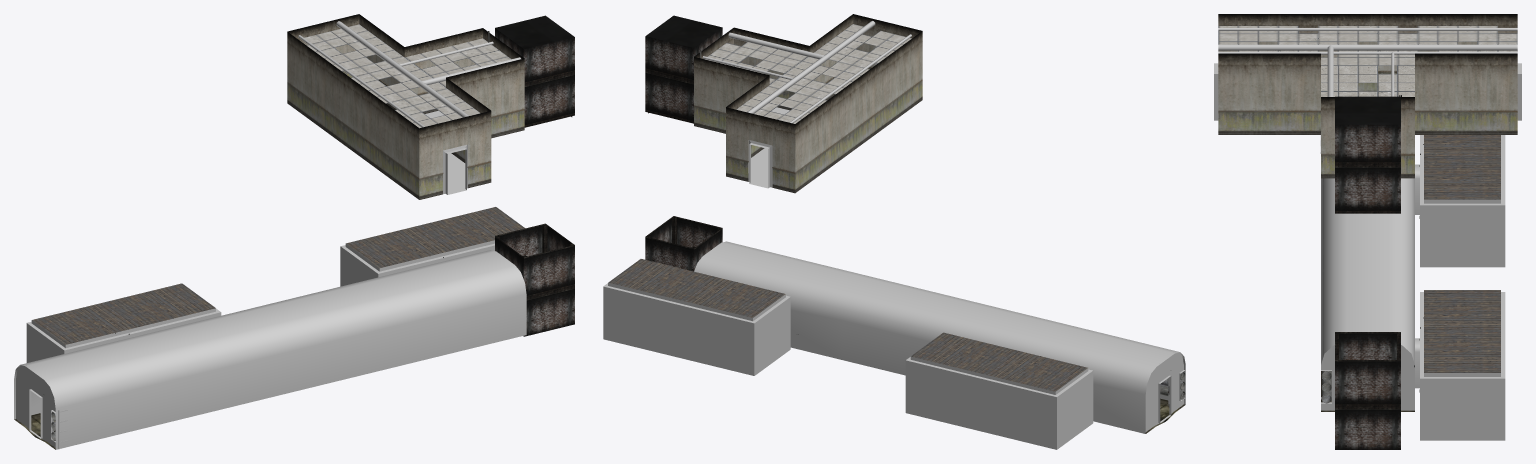
The model's file is ElevatorRoom.FBX.
The picture shows the model from 3 angles, left to right: view 1: azimuth 30°, elevation 25°; view 2: azimuth 150°, elevation 25°; view 3: azimuth 270°, elevation 25°; orthographic projection. The views are drawn at different scales.
Visible parts, largest first — view 1: Elevator_Room; view 2: Elevator_Room; view 3: Elevator_Room.
Part boxes in pixels (box(x1,y1,x2,y2)): Elevator_Room: box(14, 14, 574, 449); Elevator_Room: box(603, 14, 1185, 449); Elevator_Room: box(1214, 14, 1521, 449).
Size of what is drawn, in the model's own units: 3162 by 1653 by 1417.
